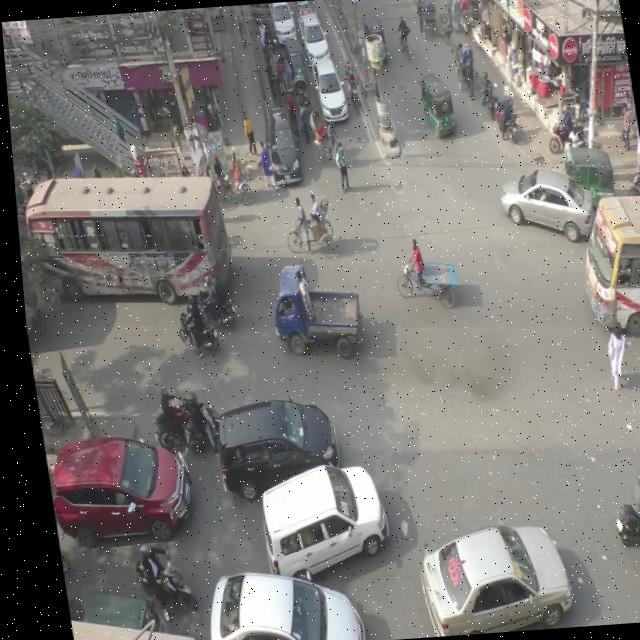cng: (548, 130, 616, 217), (411, 51, 457, 148)
rikshaw: (269, 192, 338, 266), (199, 129, 251, 211), (306, 108, 346, 172), (442, 36, 481, 96), (286, 64, 313, 140), (408, 0, 442, 42)
